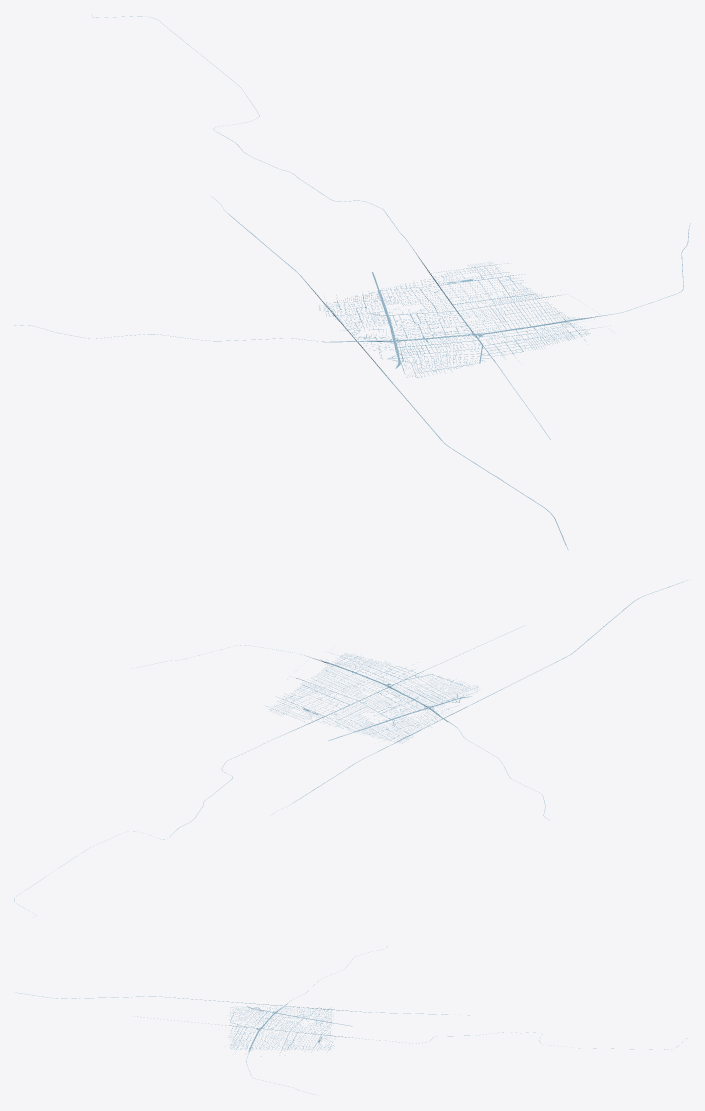
The model's file is roads.glb.
3 renders of one model, top to bottom at view 1: azimuth 30°, elevation 25°; view 2: azimuth 150°, elevation 25°; view 3: azimuth 270°, elevation 25°, orthographic. The views are drawn at different scales.
Visible parts, largest first — view 1: roads; view 2: roads; view 3: roads.
Boxes of the visible parts, <box> form: roads: <box>14,15,690,550</box>; roads: <box>14,580,687,915</box>; roads: <box>16,946,687,1094</box>.
Size of the model in its own units: 14895 by 65.31 by 28156.
